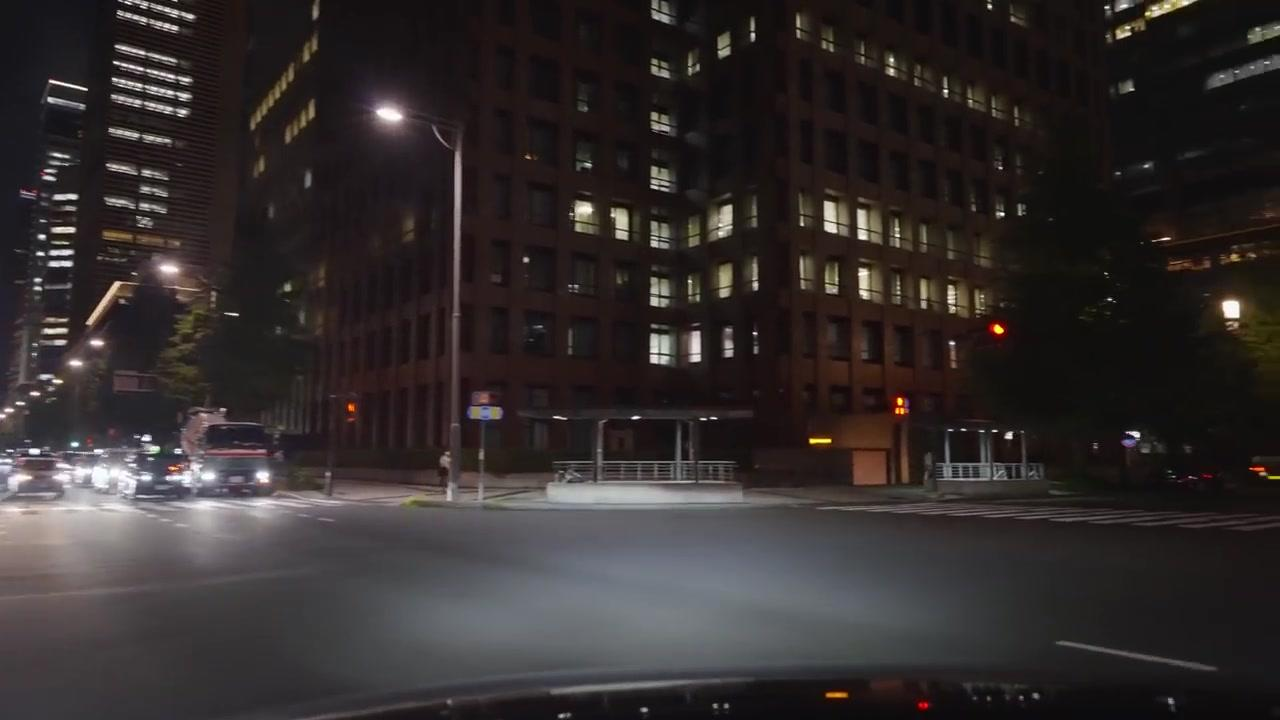car: (193, 420, 278, 497), (119, 447, 196, 499), (5, 452, 69, 498), (90, 455, 127, 492), (71, 455, 101, 487), (1248, 455, 1280, 482), (0, 456, 16, 492)
person: (437, 449, 452, 493)
traffic light: (987, 320, 1008, 341), (344, 398, 358, 424), (893, 396, 908, 415)
truck: (192, 420, 277, 497)
